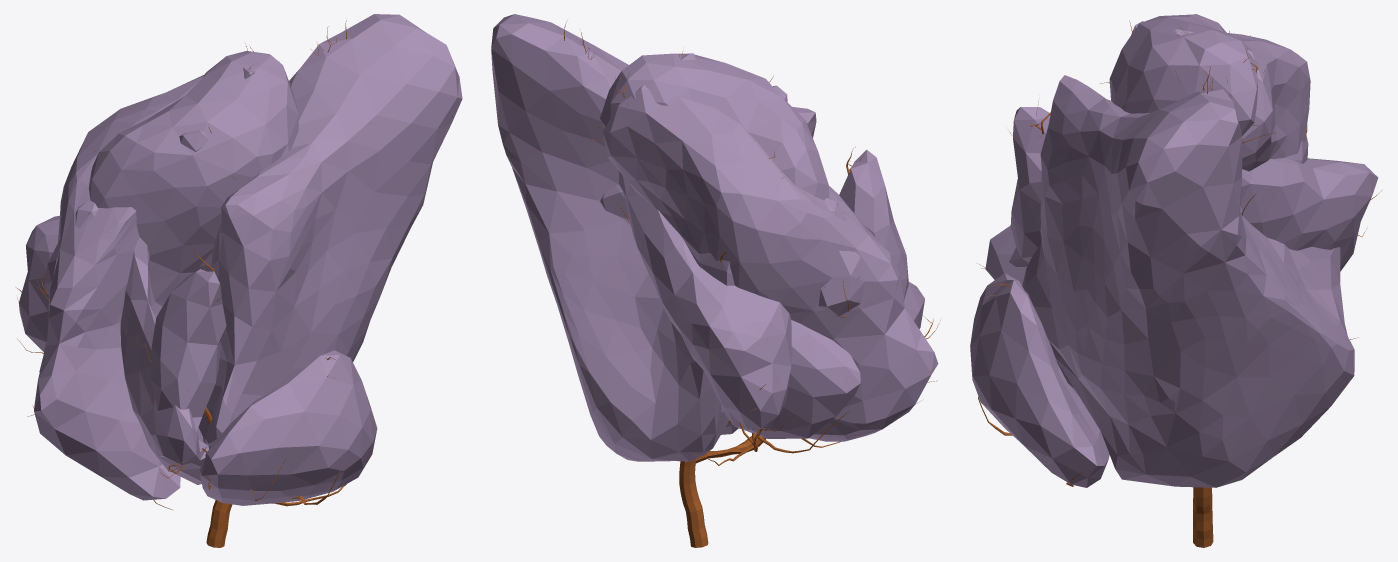
The model's file is tree-003.fbx.
3 renders of one model, left to right at view 1: azimuth 30°, elevation 25°; view 2: azimuth 150°, elevation 25°; view 3: azimuth 270°, elevation 25°, orthographic. The views are drawn at different scales.
Visible parts, largest first — view 1: tree20; view 2: tree20; view 3: tree20.
Boxes of the visible parts, bbox=[...] form: tree20: bbox=[16, 14, 462, 547]; tree20: bbox=[491, 14, 941, 547]; tree20: bbox=[970, 14, 1382, 547].
Size of the model in its own units: 601 by 657 by 451.
